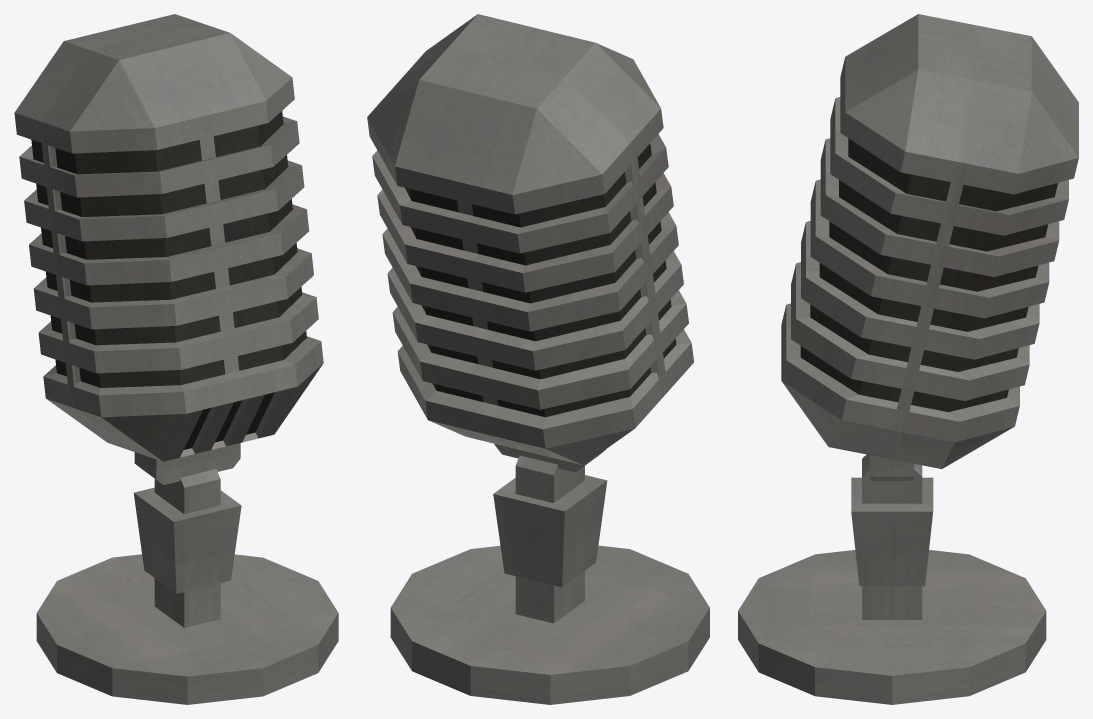
File: microphone_surfaced.fbx
3 renders of one model, left to right at view 1: azimuth 30°, elevation 25°; view 2: azimuth 150°, elevation 25°; view 3: azimuth 270°, elevation 25°, orthographic. The views are drawn at different scales.
Parts seen in each view (by area): view 1: mic, pCylinder1, pCube6, pCube5, pCube4; view 2: mic, pCylinder1, pCube6, pCube5, pCube4; view 3: mic, pCylinder1, pCube6, pCube5, pCube4.
Boxes of the visible parts, x1,y1,x2,y2 form: mic: [14, 14, 323, 461]; pCylinder1: [36, 554, 338, 704]; pCube6: [133, 487, 241, 593]; pCube5: [154, 469, 220, 627]; pCube4: [134, 443, 240, 484]; mic: [367, 14, 693, 465]; pCylinder1: [390, 545, 709, 704]; pCube6: [493, 475, 607, 587]; pCube5: [515, 455, 584, 623]; pCube4: [494, 443, 605, 472]; mic: [781, 14, 1078, 468]; pCylinder1: [738, 550, 1046, 704]; pCube6: [851, 477, 933, 586]; pCube5: [862, 454, 922, 619]; pCube4: [870, 455, 914, 480].
Bounding box in the file's own units: 10.37 × 22.2 × 11.47.
2 materials, 2 textured.
